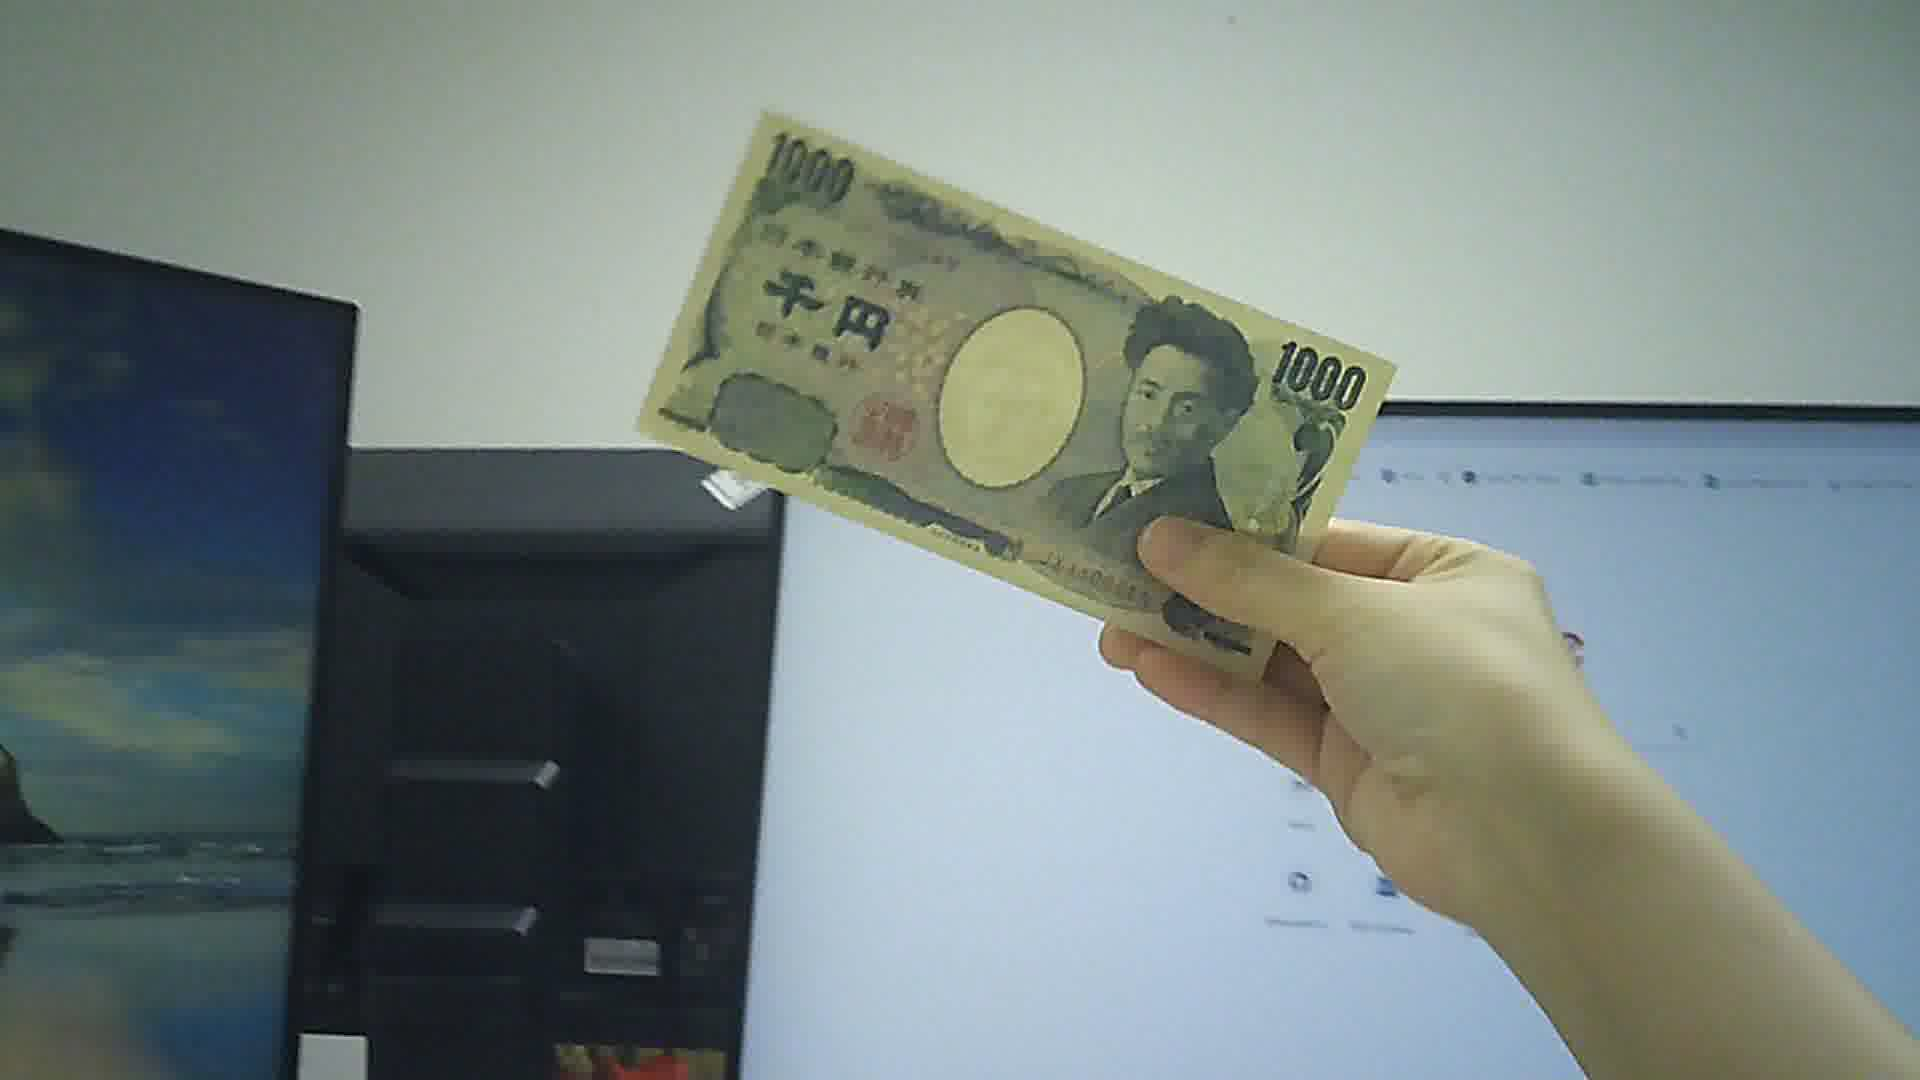1,000 Yen: (633, 91, 1393, 694)
